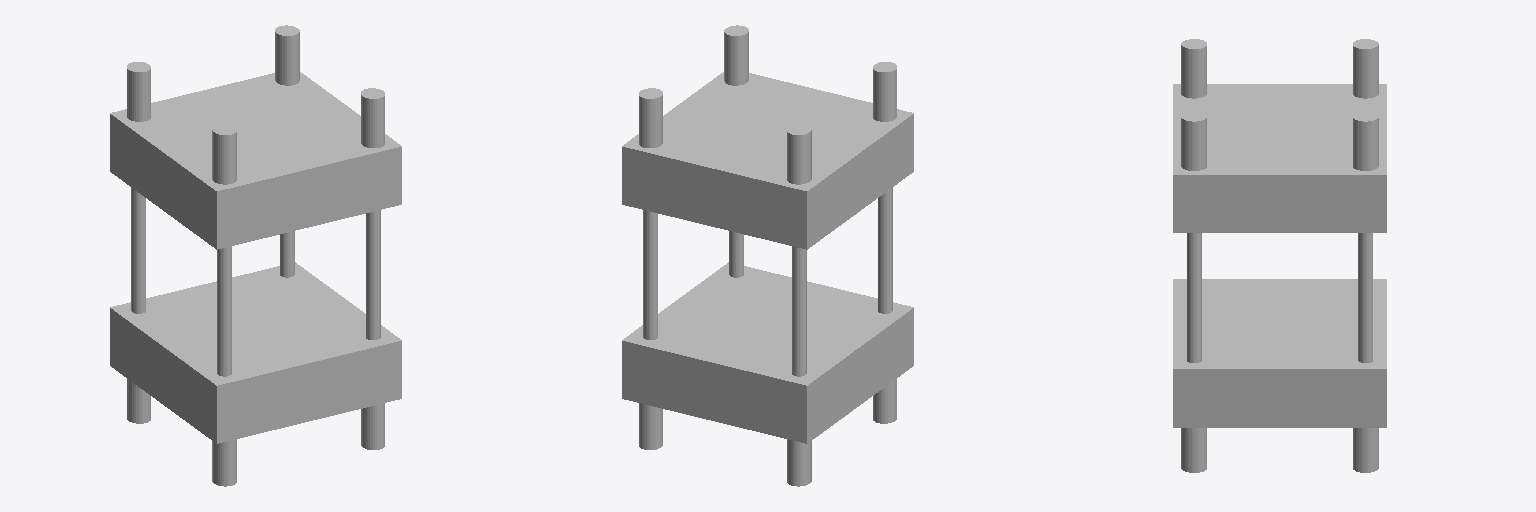
File: Ice.obj
3 views of the same model, side by side, from view 1: azimuth 30°, elevation 25°; view 2: azimuth 150°, elevation 25°; view 3: azimuth 270°, elevation 25° (orthographic).
Parts seen in each view (by area): view 1: 立方体; view 2: 立方体; view 3: 立方体.
Part boxes in pixels (bbox=[...]): 立方体: bbox=[110, 25, 401, 486]; 立方体: bbox=[622, 25, 913, 486]; 立方体: bbox=[1173, 39, 1386, 472].
Size of the model in its own units: 1 by 1.81 by 1.